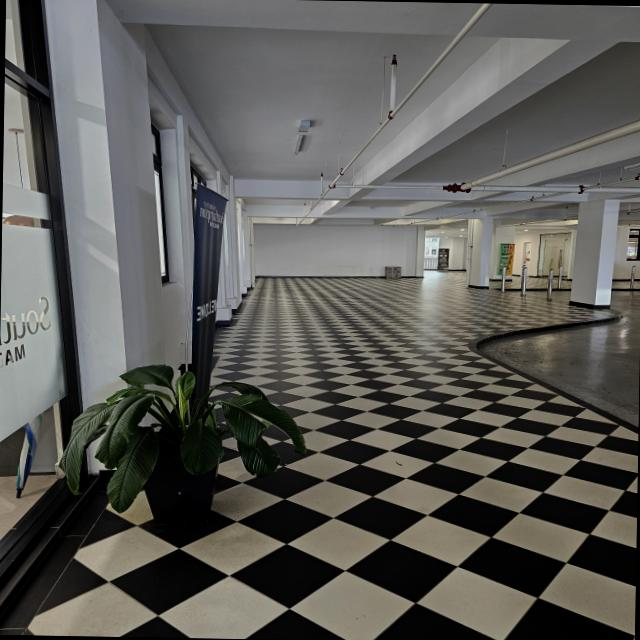footpath: (272, 311, 640, 640)
obstacle: (107, 372, 270, 528)
